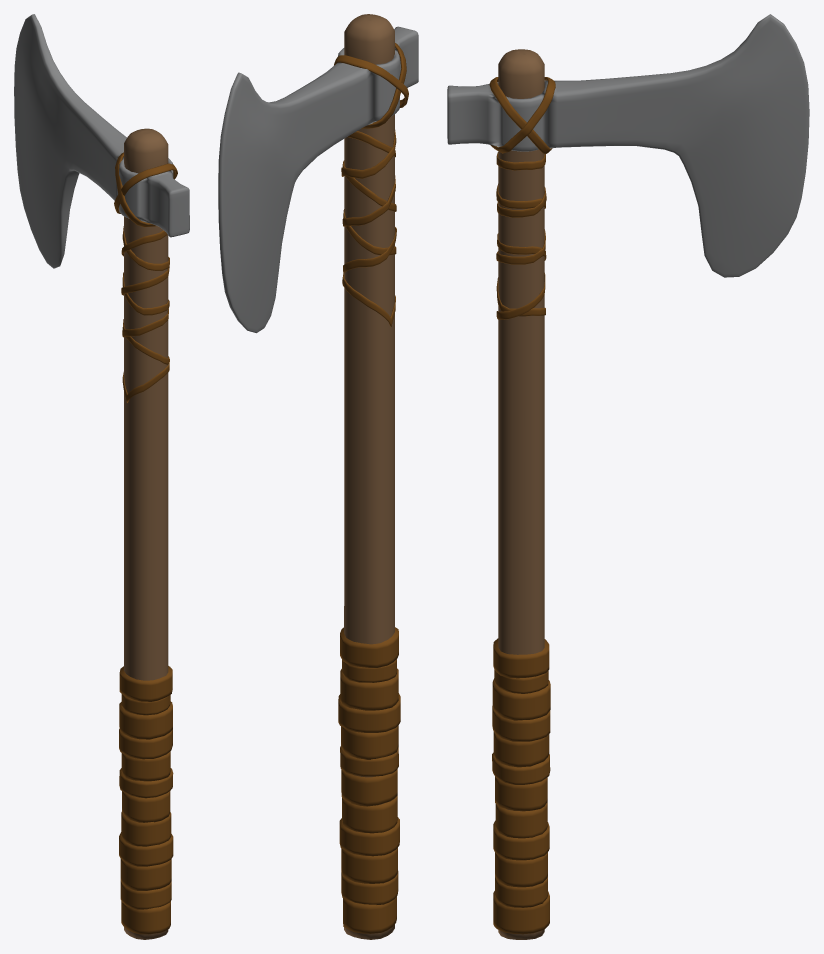
Rendered from Axe.001.fbx.
The picture shows the model from 3 angles, left to right: view 1: azimuth 30°, elevation 25°; view 2: azimuth 150°, elevation 25°; view 3: azimuth 270°, elevation 25°; orthographic projection. The views are drawn at different scales.
Visible parts, largest first — view 1: AxeBlade_low; view 2: AxeBlade_low; view 3: AxeBlade_low.
Boxes of the visible parts, x1=… form: AxeBlade_low: x1=14, y1=14, x2=189, y2=939; AxeBlade_low: x1=218, y1=14, x2=418, y2=939; AxeBlade_low: x1=447, y1=14, x2=809, y2=939.
Bounding box in the file's own units: 33.46 × 6.66 × 93.32.
